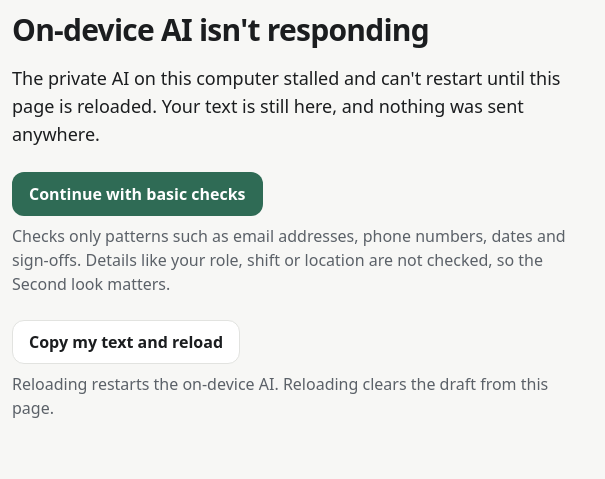
Test: StallPanel, terminal › copies the text, warns that reloading clears the draft, and reloads only on confirm
Later steps or results of the test are not shown.
Click the button "Copy my text and reload". click: (126,342)
box: [12,320,240,364]
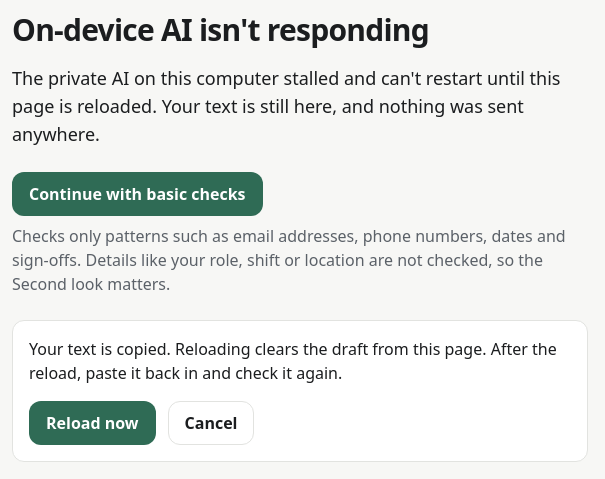
expect the message that starts with "Your text is copied." shows "Your text is copied. Reloading clears the draft from this page.": met, box [29,337,571,385]
